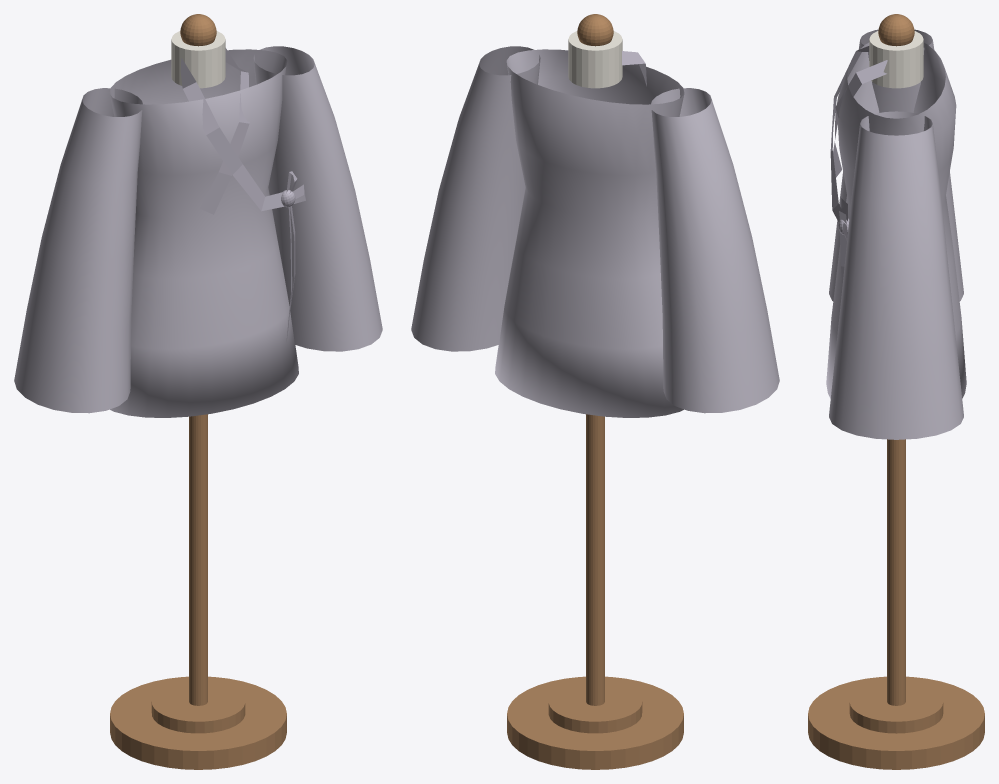
Rendered from ao_trang_phat_tu.glb.
3 views of the same model, side by side, from view 1: azimuth 30°, elevation 25°; view 2: azimuth 150°, elevation 25°; view 3: azimuth 270°, elevation 25° (orthographic).
Visible parts, largest first — view 1: Than_Ao_Trang, Tay_Ao_Trai, Tay_Ao_Phai, Chan_De_Go, Tru_Go, Go_Tien_De, Nep_Co_MaNoCanh_Chinh, Co_Ma_No_Canh, Nep_Co_MaNoCanh_Phu, Chop_Co_Go; view 2: Than_Ao_Trang, Tay_Ao_Trai, Tay_Ao_Phai, Chan_De_Go, Tru_Go, Go_Tien_De, Co_Ma_No_Canh, Chop_Co_Go; view 3: Tay_Ao_Phai, Chan_De_Go, Than_Ao_Trang, Tru_Go, Go_Tien_De, Tay_Ao_Trai, Co_Ma_No_Canh, Chop_Co_Go, Nep_Co_MaNoCanh_Phu, Nep_Co_MaNoCanh_Chinh.
Boxes of the visible parts, x1,y1,x2,y2 form: Than_Ao_Trang: (109,49,298,417); Tay_Ao_Trai: (14,88,142,413); Tay_Ao_Phai: (253,46,382,351); Chan_De_Go: (110,676,286,769); Tru_Go: (189,414,207,705); Go_Tien_De: (151,682,245,733); Nep_Co_MaNoCanh_Chinh: (180,58,283,211); Co_Ma_No_Canh: (171,31,225,88); Nep_Co_MaNoCanh_Phu: (200,48,249,214); Chop_Co_Go: (180,14,216,46); Than_Ao_Trang: (495,49,684,417); Tay_Ao_Trai: (651,88,779,413); Tay_Ao_Phai: (411,46,540,351); Chan_De_Go: (507,676,683,769); Tru_Go: (586,414,604,705); Go_Tien_De: (548,682,642,733); Co_Ma_No_Canh: (568,31,622,88); Chop_Co_Go: (577,14,613,46); Tay_Ao_Phai: (829,111,963,439); Chan_De_Go: (808,676,984,769); Than_Ao_Trang: (826,42,966,398); Tru_Go: (887,439,905,705); Go_Tien_De: (849,682,943,733); Tay_Ao_Trai: (829,29,963,301); Co_Ma_No_Canh: (869,31,923,88); Chop_Co_Go: (878,14,914,46); Nep_Co_MaNoCanh_Phu: (833,60,887,177); Nep_Co_MaNoCanh_Chinh: (830,46,869,221).
Size of the model in its own units: 0.77 by 1.52 by 0.34.
